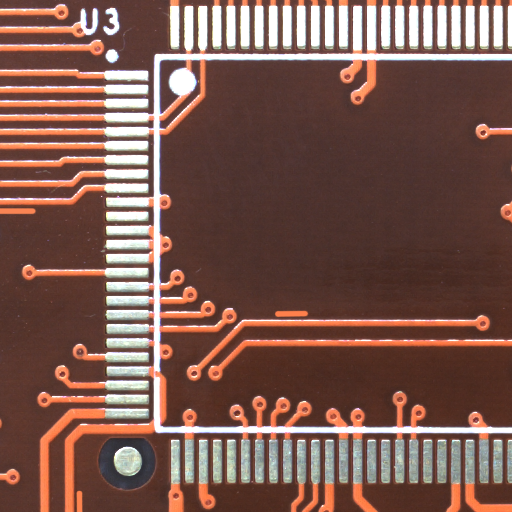Spurious_copper: (291, 313, 324, 324), (19, 210, 57, 219), (79, 499, 87, 512)
